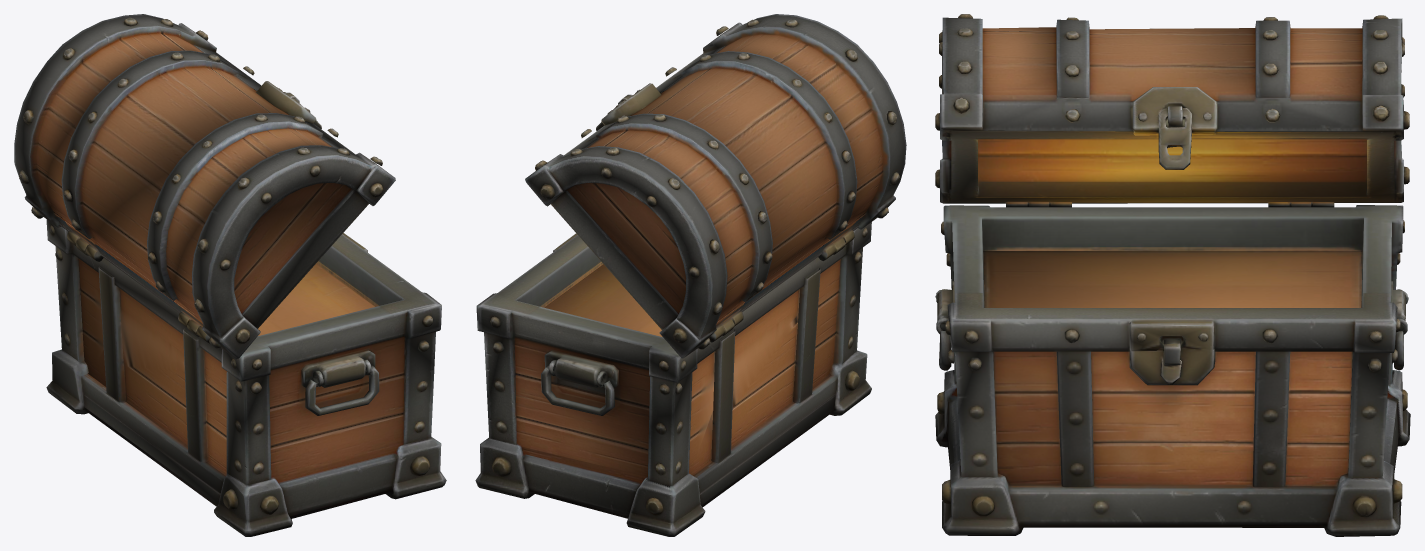
File: source.glb
3 views of the same model, side by side, from view 1: azimuth 30°, elevation 25°; view 2: azimuth 150°, elevation 25°; view 3: azimuth 270°, elevation 25° (orthographic). The views are drawn at different scales.
Parts seen in each view (by area): view 1: tripo_node_cf514001-9fa9-4de9-87e0-cdbd1c83dd57; view 2: tripo_node_cf514001-9fa9-4de9-87e0-cdbd1c83dd57; view 3: tripo_node_cf514001-9fa9-4de9-87e0-cdbd1c83dd57.
Boxes of the visible parts, x1,y1,x2,y2 form: tripo_node_cf514001-9fa9-4de9-87e0-cdbd1c83dd57: (14,14,446,536); tripo_node_cf514001-9fa9-4de9-87e0-cdbd1c83dd57: (475,14,906,536); tripo_node_cf514001-9fa9-4de9-87e0-cdbd1c83dd57: (935,14,1410,536).
Bounding box in the file's own units: 0.4309 × 0.6 × 0.6.
Materials: 1 (1 with a texture image).
